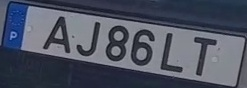6: (130, 28, 155, 67)
8: (104, 25, 129, 62)
A: (41, 15, 71, 54)
J: (75, 21, 101, 57)
L: (159, 31, 184, 73)
T: (193, 36, 217, 76)
